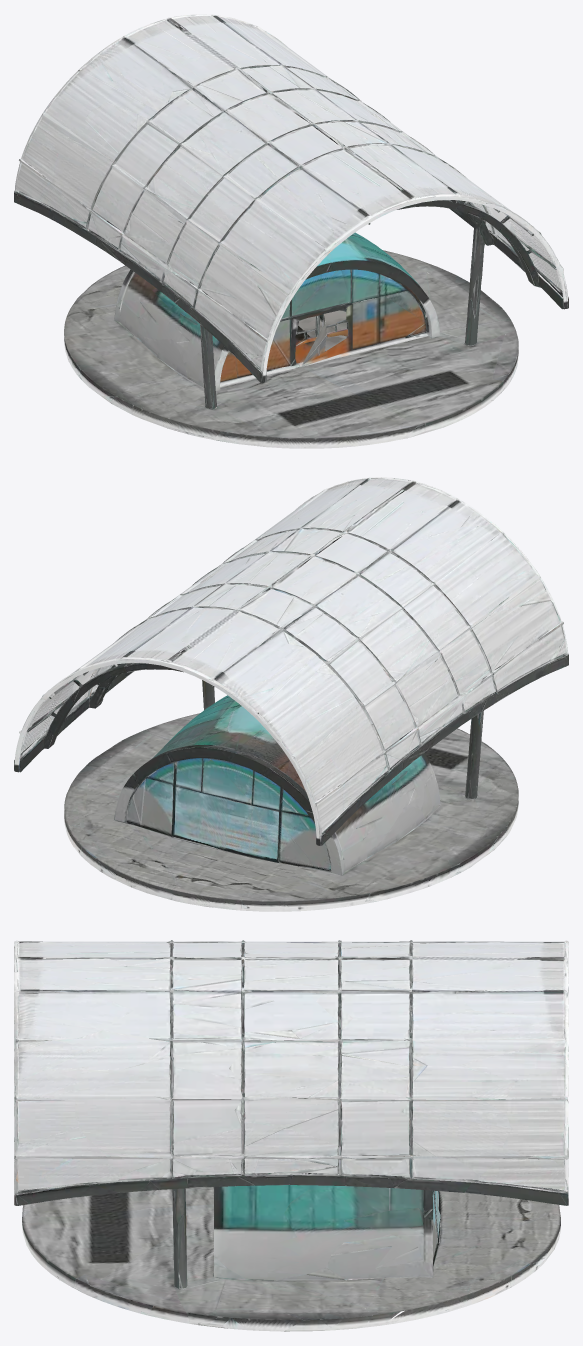
Rendered from gondola_station.glb.
The picture shows the model from 3 angles, top to bottom: view 1: azimuth 30°, elevation 25°; view 2: azimuth 150°, elevation 25°; view 3: azimuth 270°, elevation 25°; orthographic projection. The views are drawn at different scales.
Size of the model in its own units: 1.7 by 1.03 by 1.9.
Materials: 1 (1 with a texture image).
